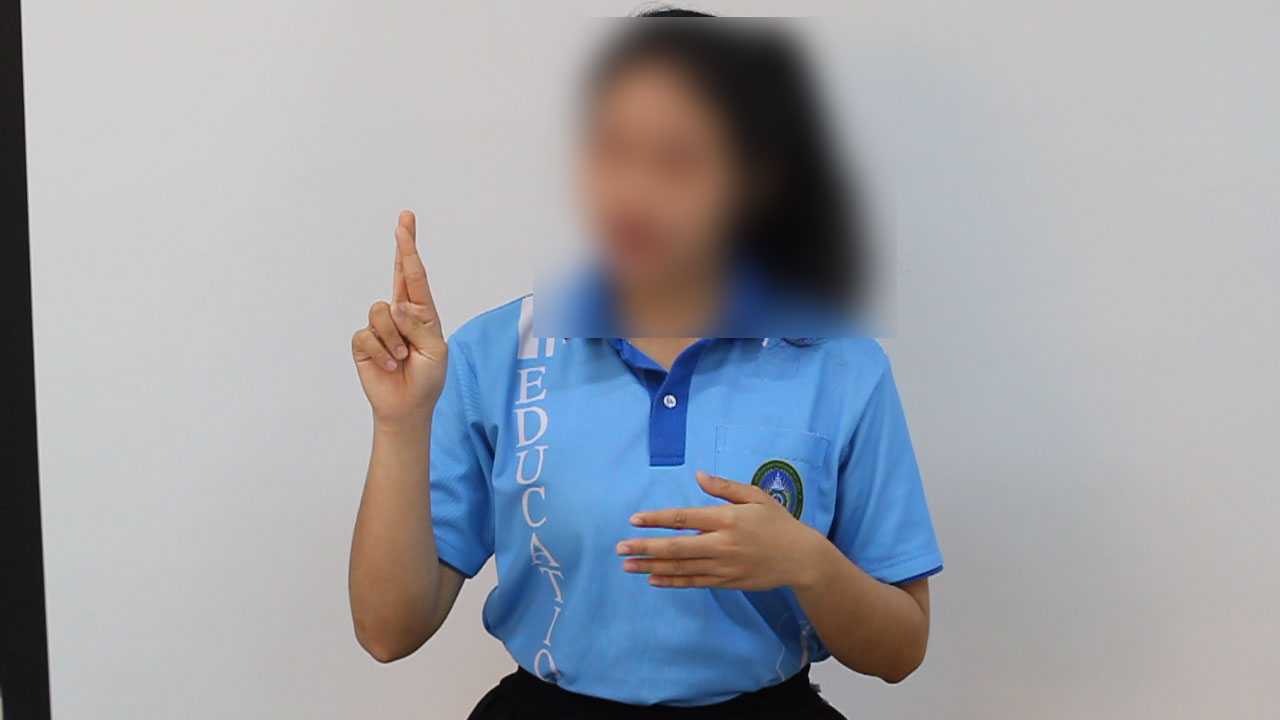rao: (334, 205, 460, 442)
